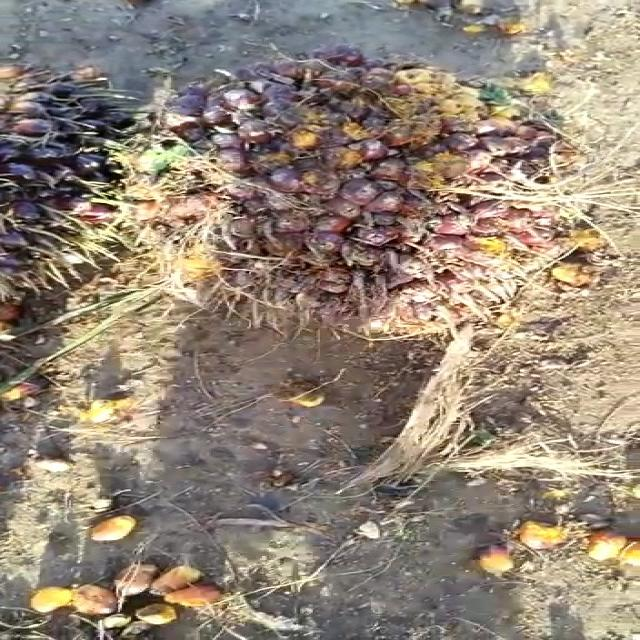palm oil: (142, 48, 568, 324)
